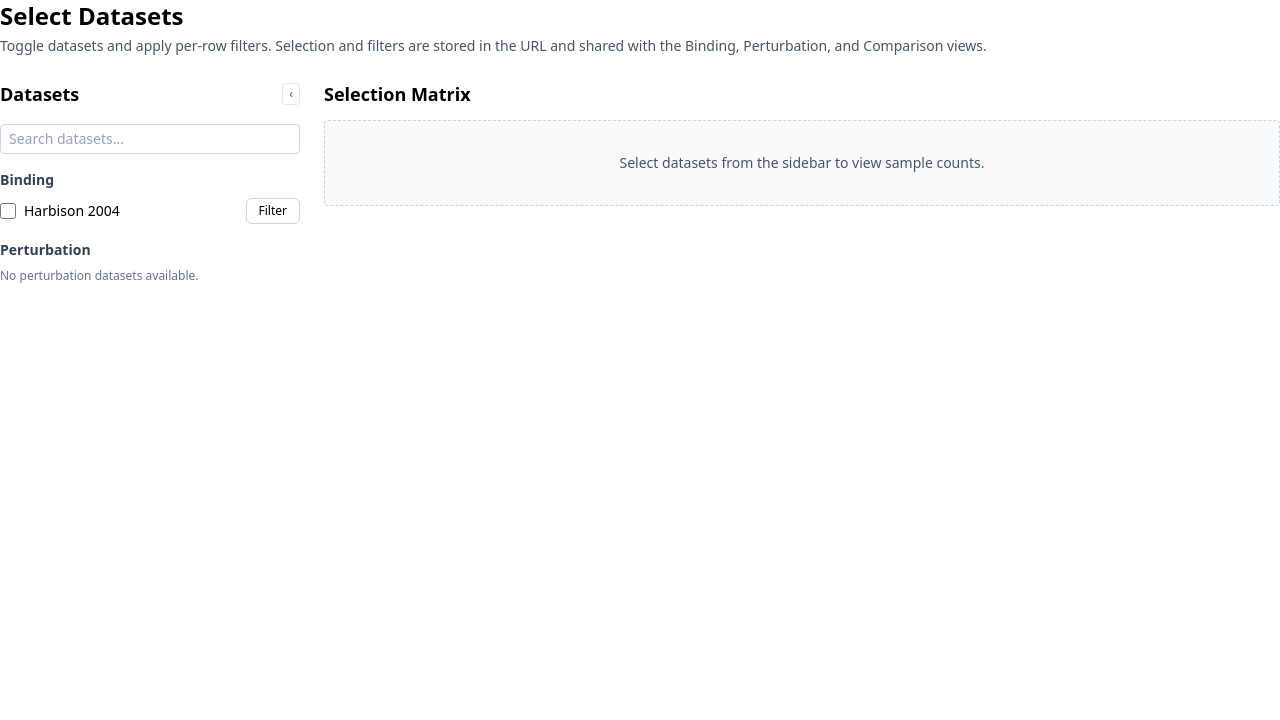
Test: Select route › description on a field renders as a native title= tooltip on the modal label
This screenshot has width=1280, height=720.
Expected: the text "Harbison 2004" is shown, [24,201,120,221]
Click the button "Filter".
click(273, 211)  # box [246,198,300,224]
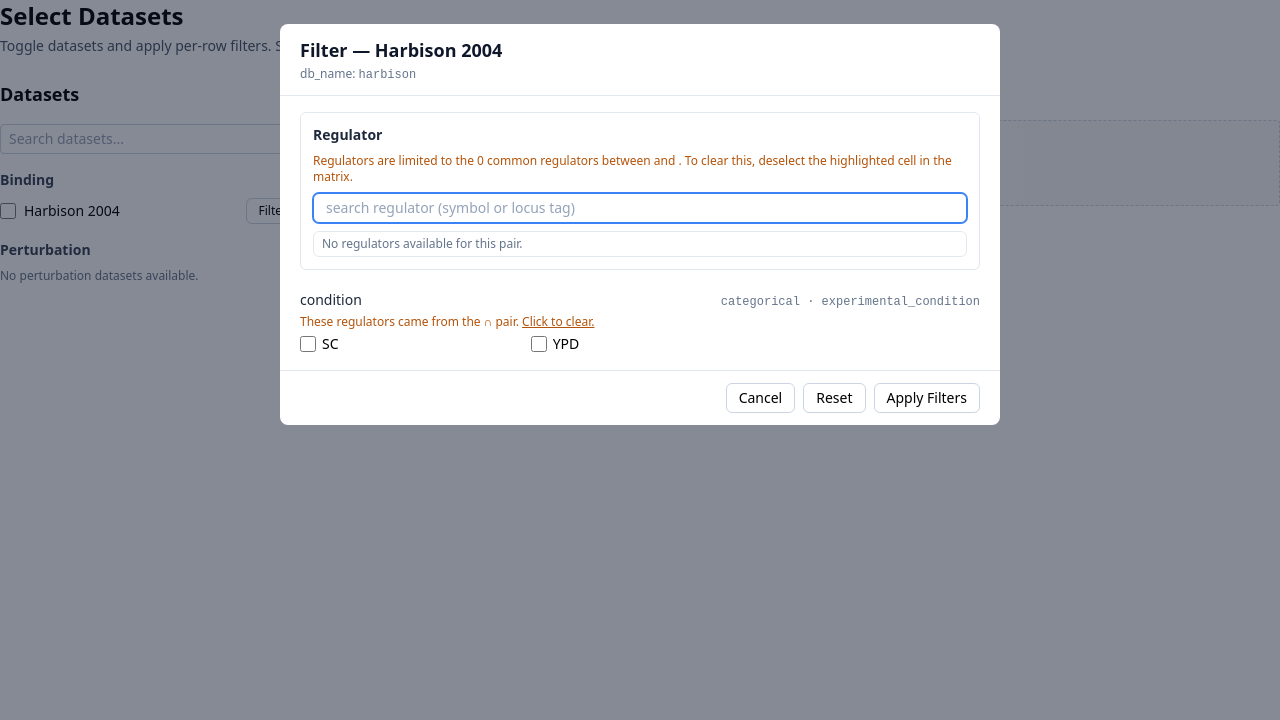
Expected: the text "condition" is shown, [300,290,362,310]
